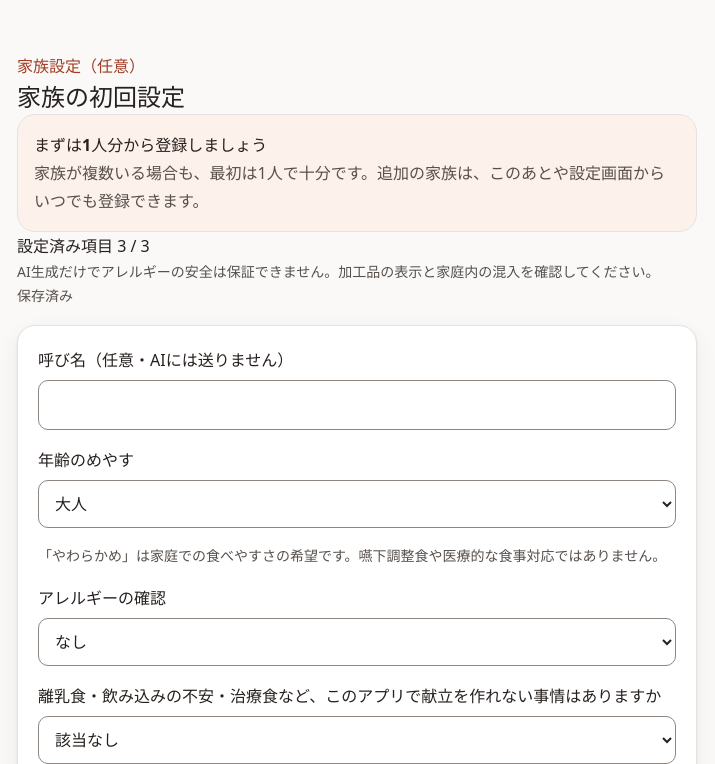
does not complete or report saved when the final queued save fails
Type "母" into the field labelled "呼び名（任意・AIには送りません）".
click(357, 405); type("母")  # box [38,380,676,430]
(page scrolled)
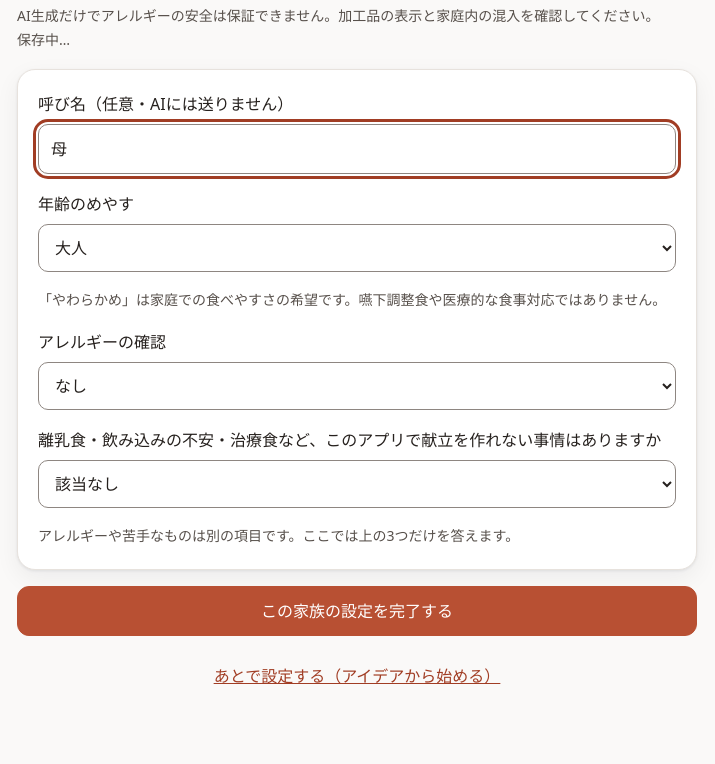
Click the button "この家族の設定を完了する".
click(357, 611)  # box [17,586,697,636]
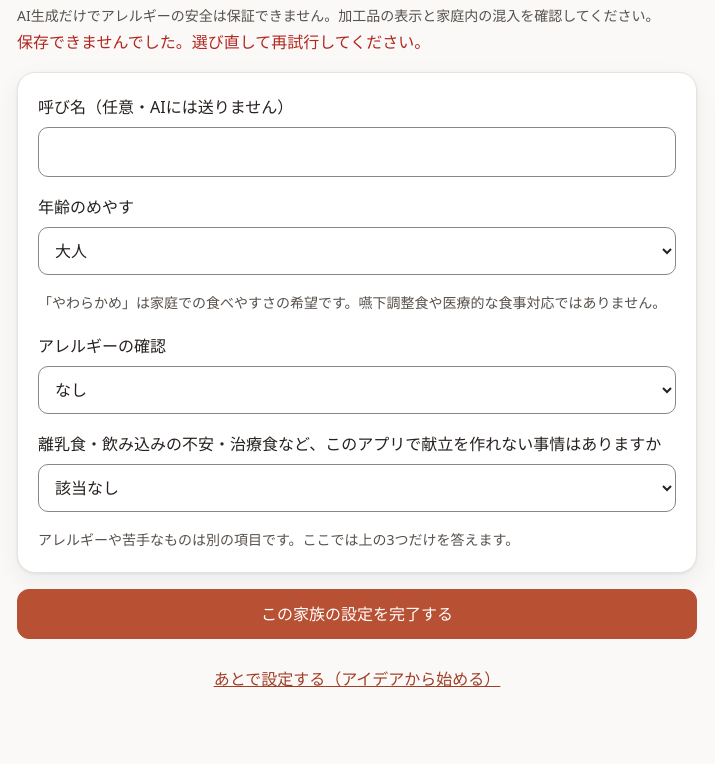
Expected: the text "保存済み" is not shown
Expected: the text "保存できませんでした。選び直して再試行してください。" is shown, [17,31,430,53]
